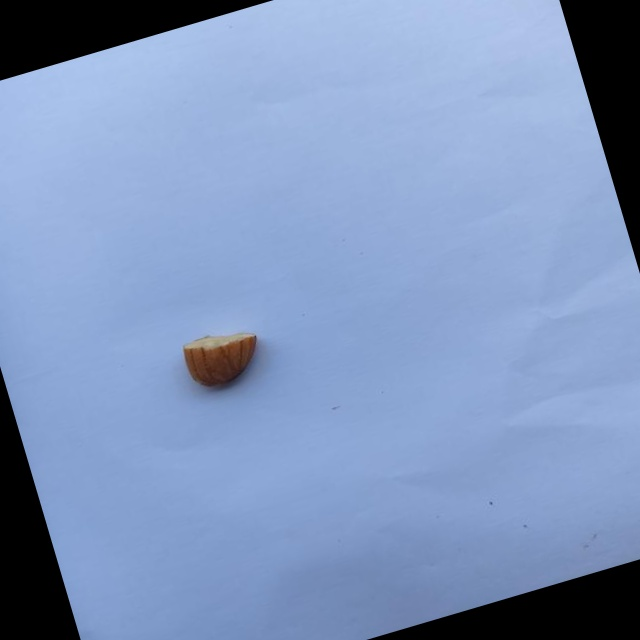grade4: (172, 316, 277, 402)
